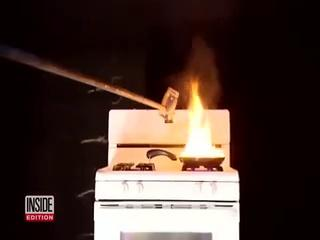Fire: (177, 78, 220, 164)
